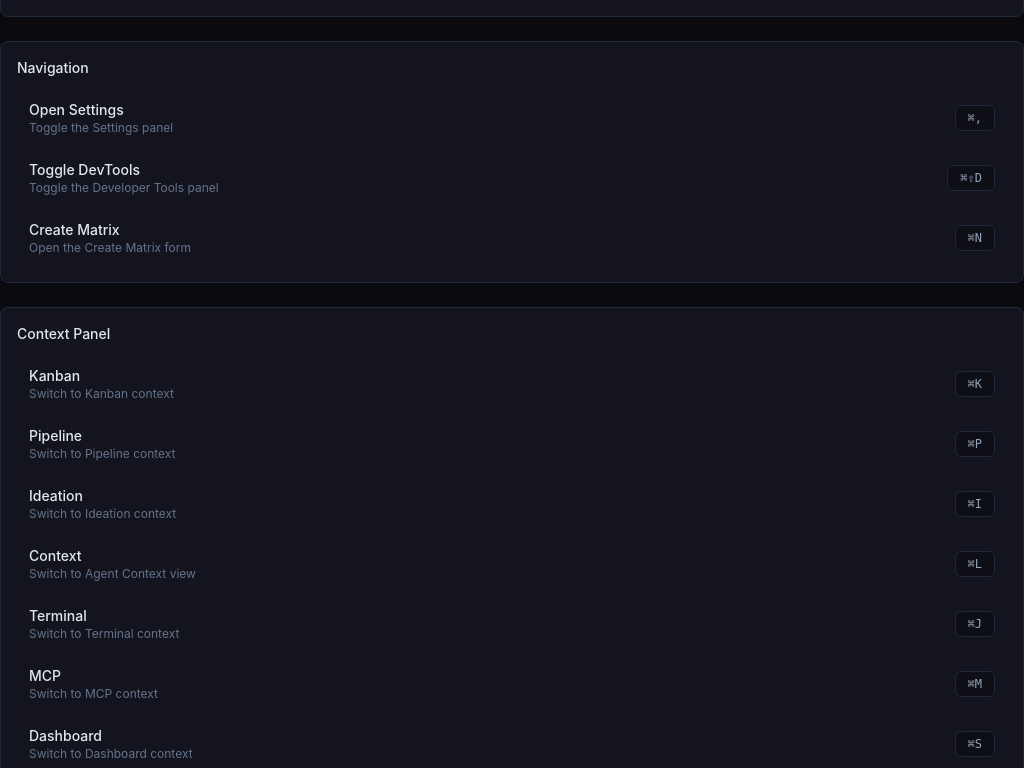
Scenario: KeyboardShortcutsSection › opens recorder modal when clicking a binding button
This screenshot has width=1024, height=768.
(page scrolled)
Click the button "⌘K" at (975, 384), box top-left (954, 371), bottom-right (995, 397)
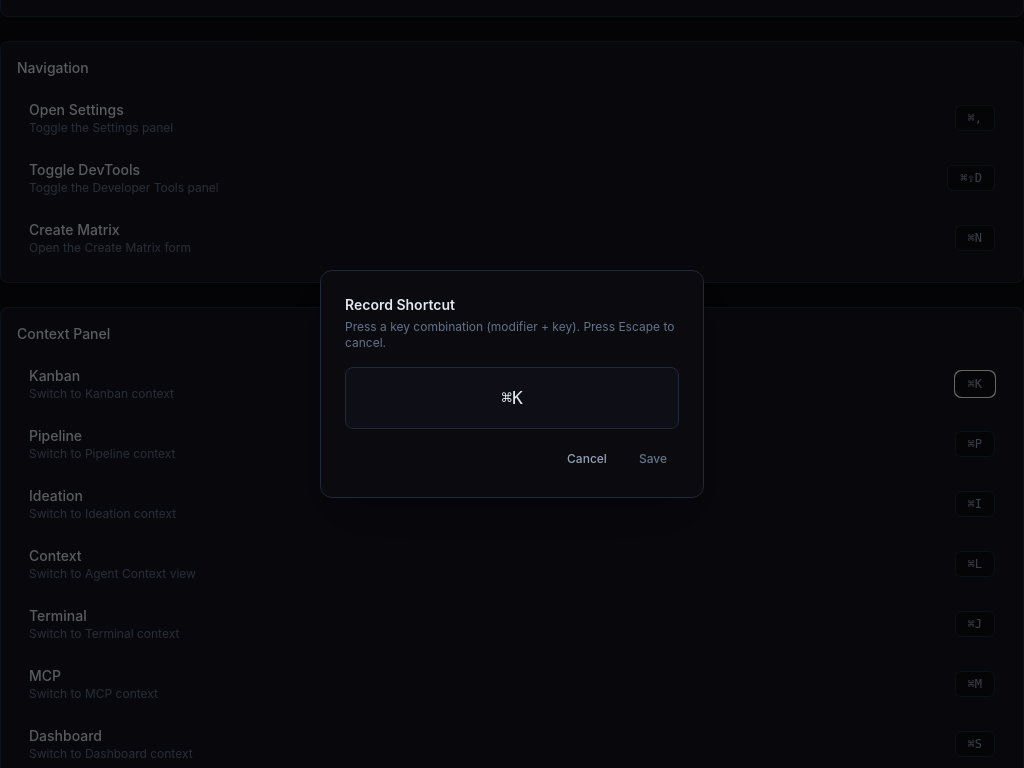
Expected: the heading "Record Shortcut" is shown, top-left (345, 296), bottom-right (455, 313)
Expected: the text "Press a key combination" is shown, top-left (345, 319), bottom-right (674, 350)
